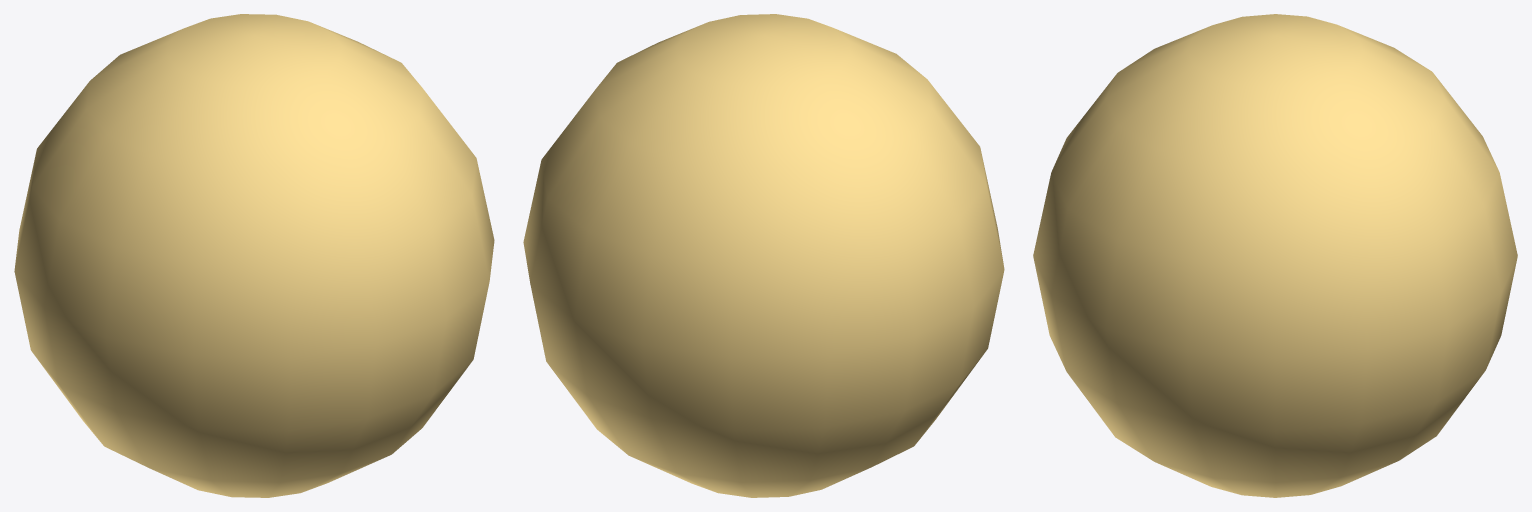
Rendered from StitchNODE.gltf.
3 renders of one model, left to right at view 1: azimuth 30°, elevation 25°; view 2: azimuth 150°, elevation 25°; view 3: azimuth 270°, elevation 25°, orthographic.
Visible parts, largest first — view 1: StitchNODE; view 2: StitchNODE; view 3: StitchNODE.
Boxes of the visible parts, x1,y1,x2,y2 form: StitchNODE: [14, 14, 494, 497]; StitchNODE: [523, 14, 1004, 497]; StitchNODE: [1033, 14, 1517, 497].
Bounding box in the file's own units: 0.5144 × 0.5144 × 0.5144.
